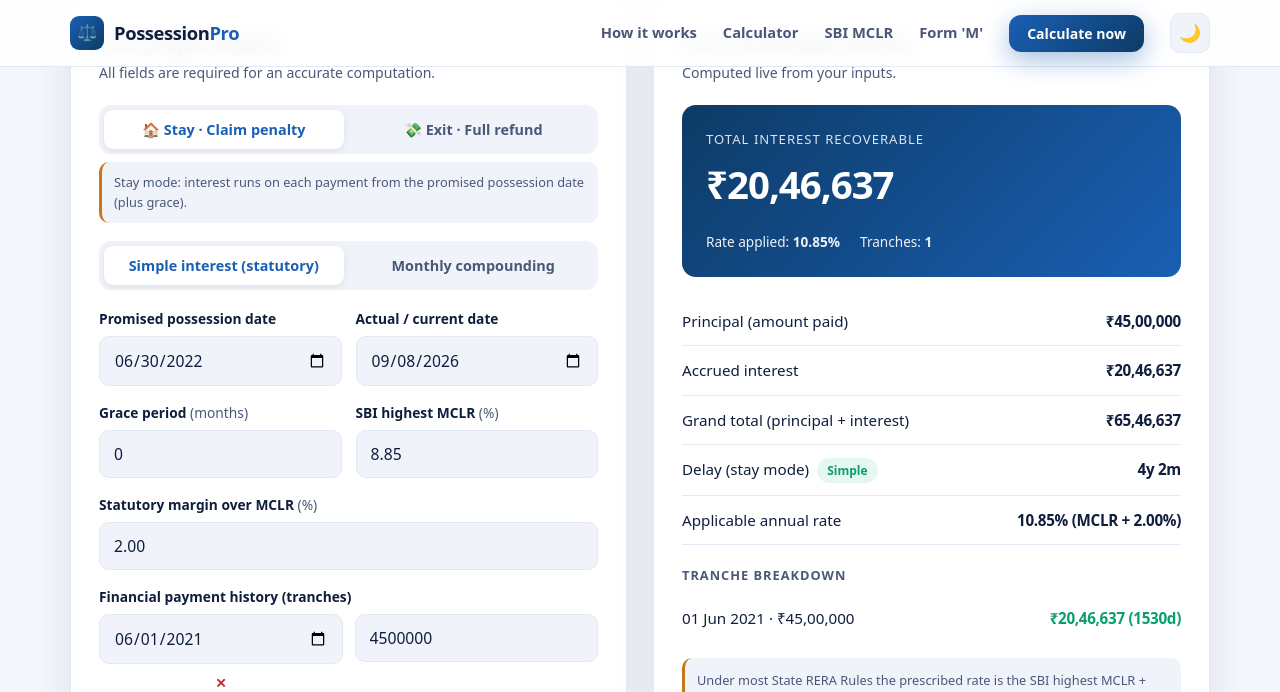
Test: PossessionPro app › computes simple interest and matches reference math
The image size is (1280, 692).
(page scrolled)
In the date field below "Actual / current date": (477, 361) [356,336,598,386], type "2024-06-30"
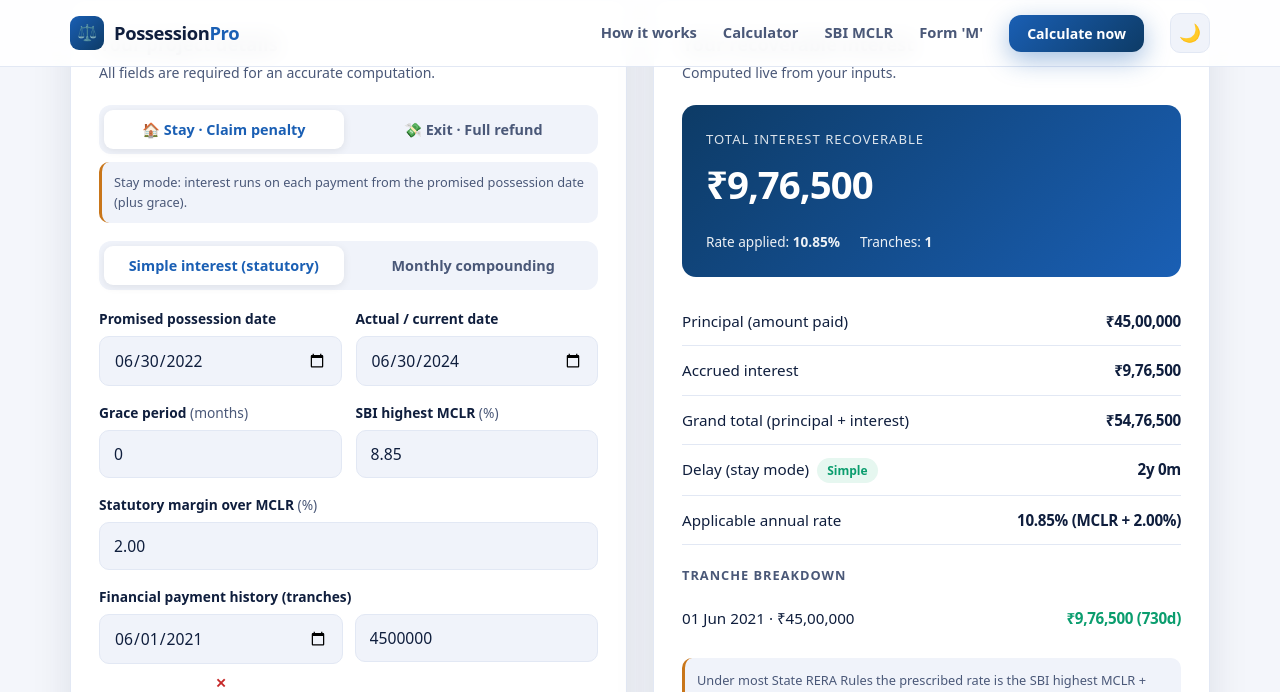
Expected: the element with class "result-hero" shows "₹9,76,500", [706,158,873,210]
Expected: the text "₹54,76,500" is shown, [1106,408,1181,432]
